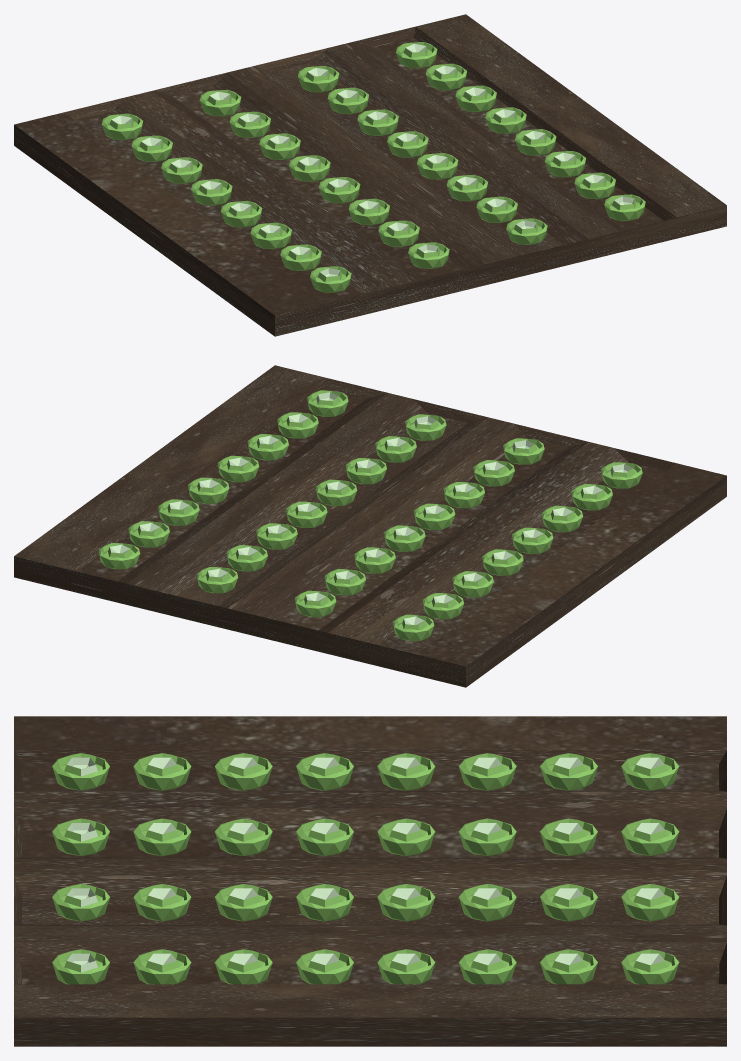
File: Champ.dae
3 renders of one model, top to bottom at view 1: azimuth 30°, elevation 25°; view 2: azimuth 150°, elevation 25°; view 3: azimuth 270°, elevation 25°, orthographic. The views are drawn at different scales.
Visible parts, largest first — view 1: Cube.001, Icosphere; view 2: Cube.001, Icosphere; view 3: Cube.001, Icosphere.
Part boxes in pixels (x1,y1,x2,y2): Cube.001: [14, 14, 726, 336]; Icosphere: [101, 42, 645, 292]; Cube.001: [14, 365, 726, 687]; Icosphere: [98, 390, 642, 641]; Cube.001: [14, 716, 726, 1046]; Icosphere: [52, 753, 679, 984].
Bounding box in the file's own units: 5.92 × 5.92 × 0.3313.
Materials: 3 (1 with a texture image).
